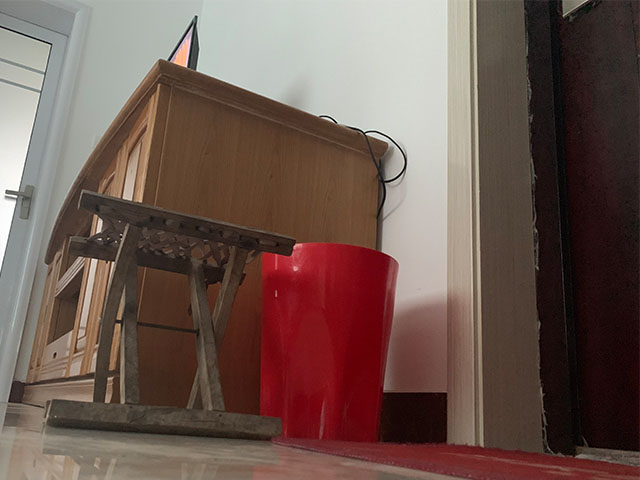cabinet: (21, 58, 389, 424)
carpet: (269, 439, 640, 480)
stool: (42, 187, 298, 442)
trashcan: (258, 241, 400, 443)
